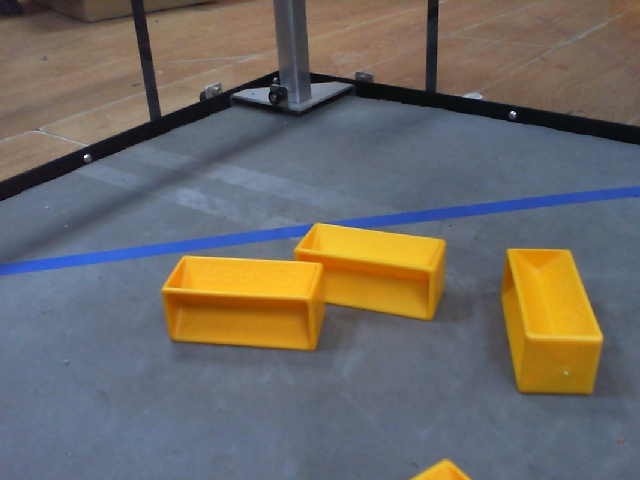YellowSample: (496, 242, 610, 402), (163, 248, 328, 355), (289, 218, 447, 323), (411, 453, 481, 480)
